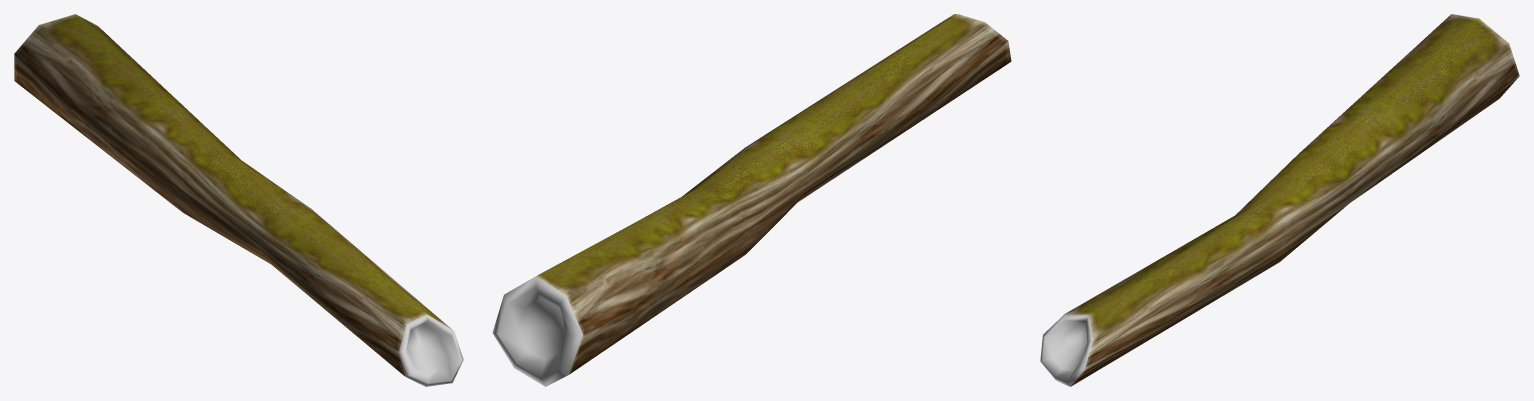
The model's file is redridgefallentree01moss.obj.
3 views of the same model, side by side, from view 1: azimuth 30°, elevation 25°; view 2: azimuth 150°, elevation 25°; view 3: azimuth 330°, elevation 25° (orthographic). The views are drawn at different scales.
Parts seen in each view (by area): view 1: Geoset0, Geoset1; view 2: Geoset0, Geoset1; view 3: Geoset0, Geoset1.
Boxes of the visible parts, bbox=[...] form: Geoset0: bbox=[14, 14, 452, 376]; Geoset1: bbox=[399, 314, 463, 386]; Geoset0: bbox=[537, 14, 1011, 374]; Geoset1: bbox=[492, 276, 582, 386]; Geoset0: bbox=[1065, 14, 1519, 386]; Geoset1: bbox=[1040, 314, 1092, 386].
Size of the model in its own units: 1.48 by 1.58 by 12.24.
